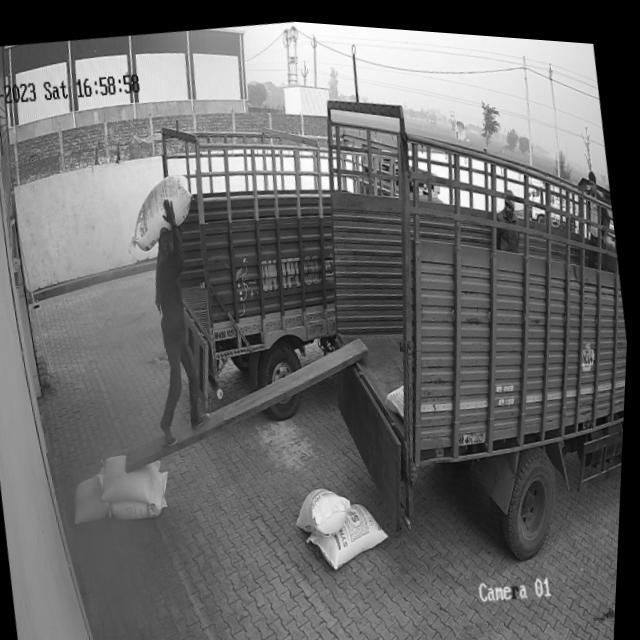sack: (306, 489, 398, 571), (122, 166, 202, 256), (99, 444, 171, 509), (108, 466, 178, 523), (295, 476, 360, 536), (70, 468, 120, 525)
